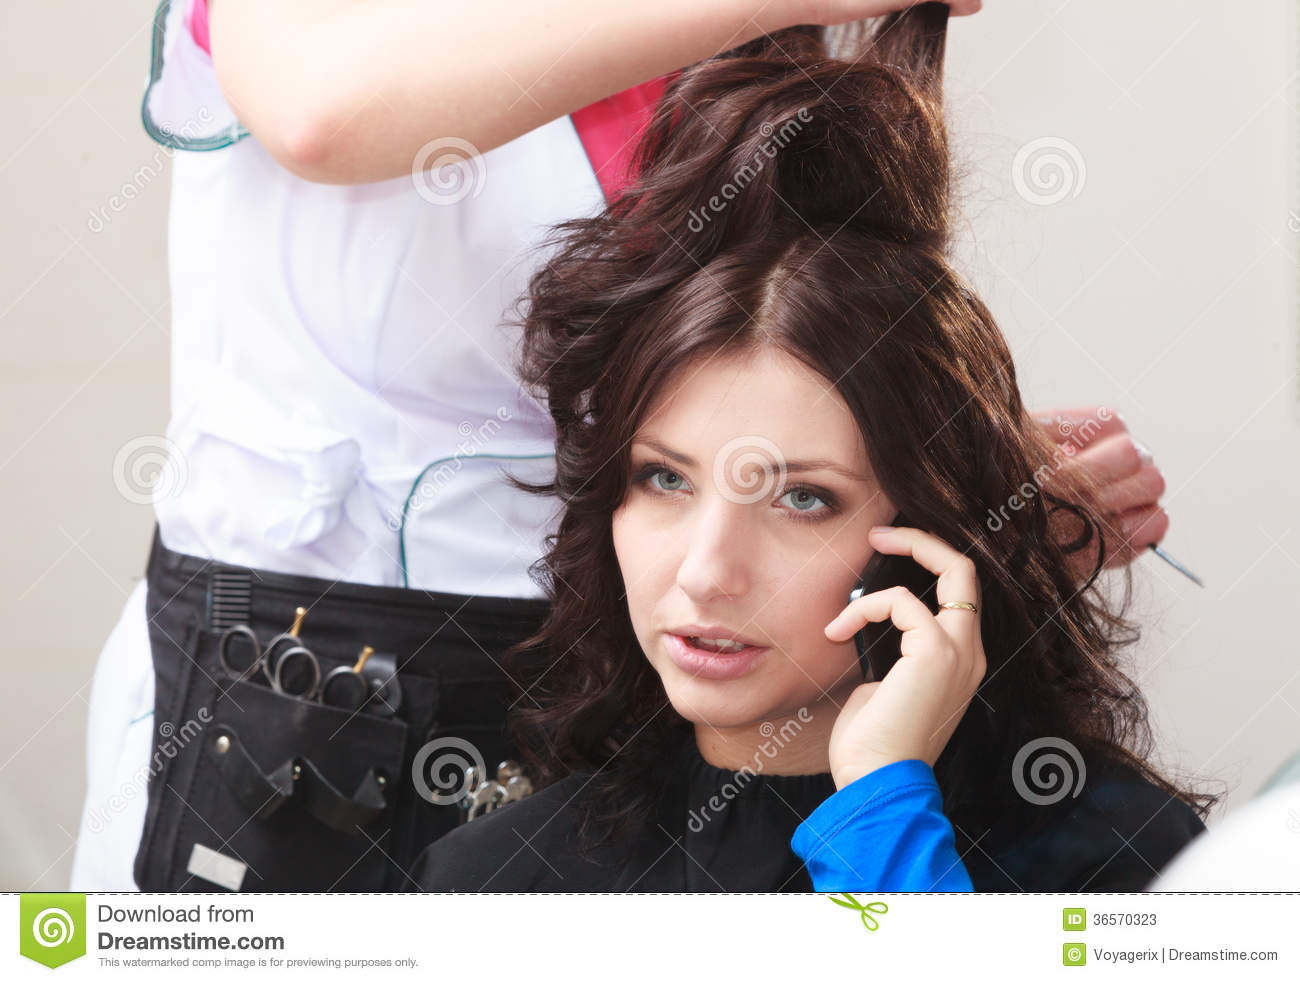phone: (851, 500, 934, 688)
talk: (607, 405, 986, 798)
